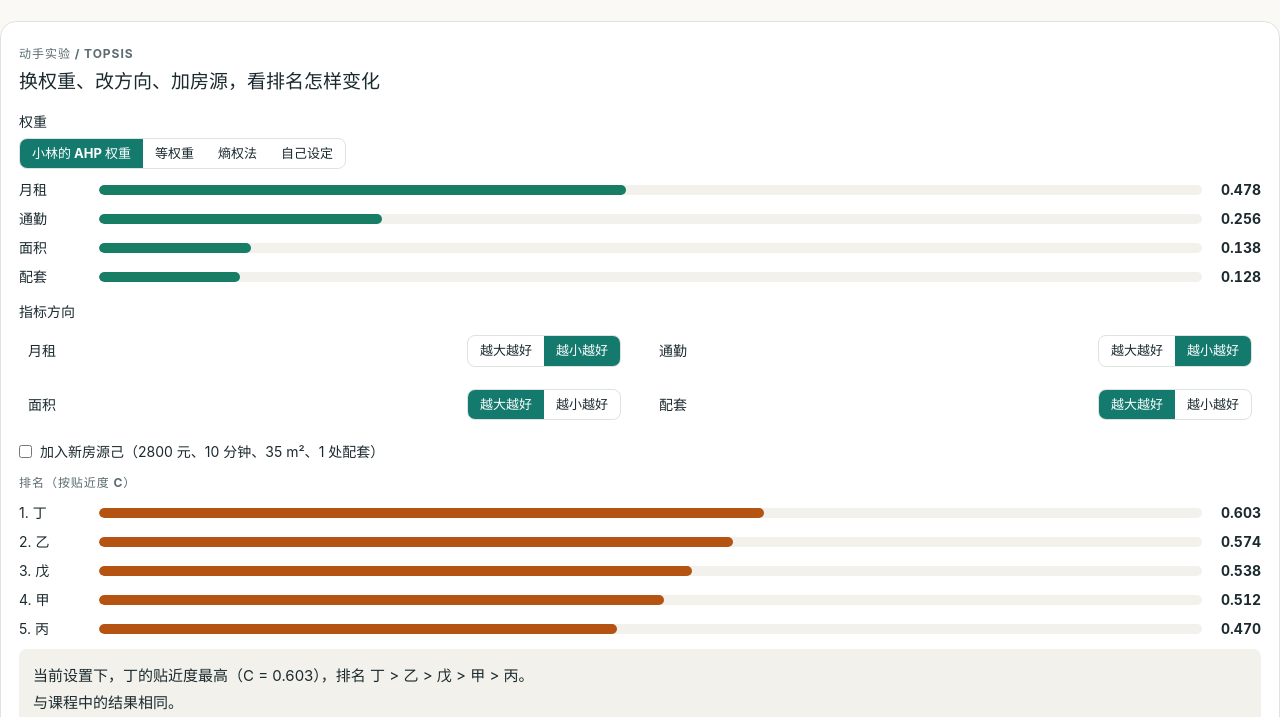
it: TOPSIS 排名实验 › adds the sixth room and names the rank reversal
Step 1. Click the checkbox labelled "加入新房源己（2800 元、10 分钟、35 m²、1 处配套）" → coordinates (26, 452), box 19,445 -> 32,458
(page scrolled)
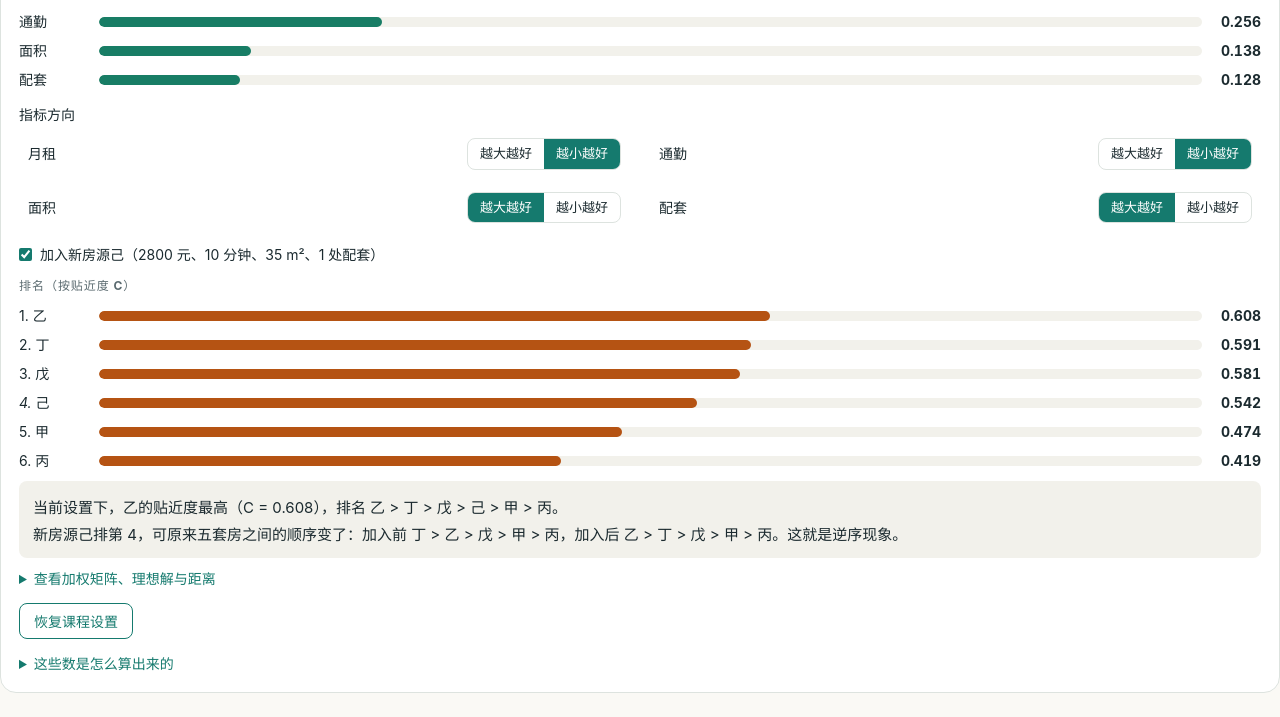
Check: the text "新房源己排第 4，可原来五套房之间的顺序变了：加入前 丁 > 乙 > 戊 > 甲 > 丙，加入后 乙 > 丁 > 戊 > 甲 > 丙" is shown, box 33,524 -> 907,544
Check: the text "逆序现象" is shown, box 33,524 -> 907,544
